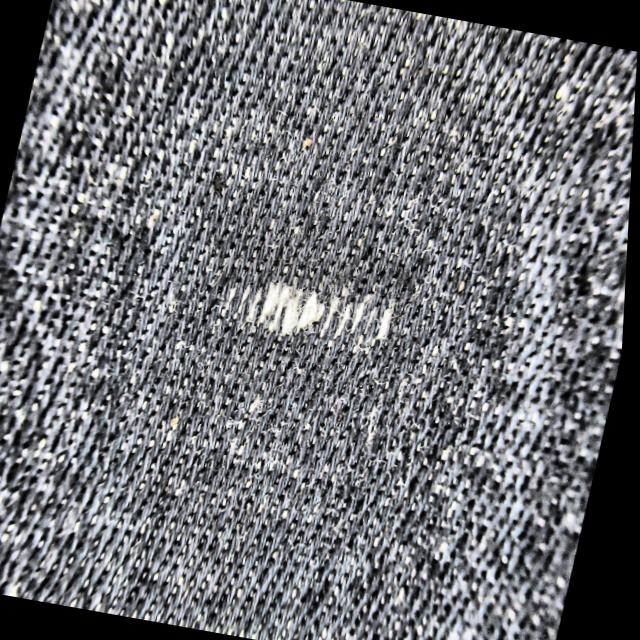Hole: (223, 276, 396, 349)
